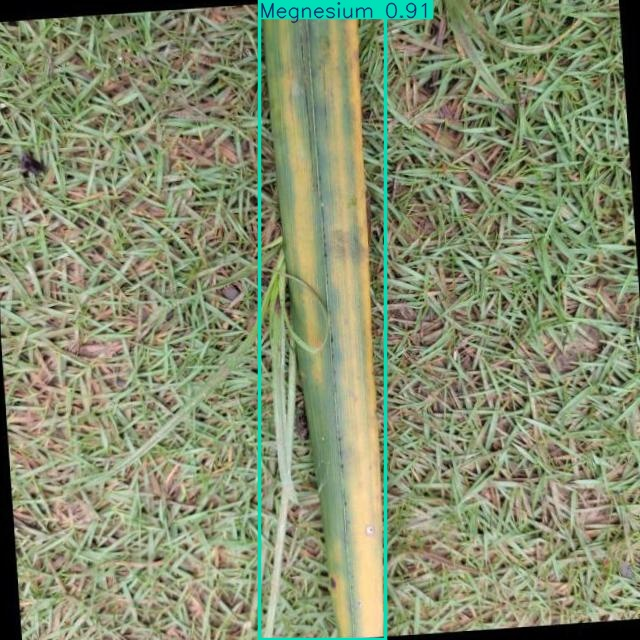Megnesium: (260, 0, 386, 640)
